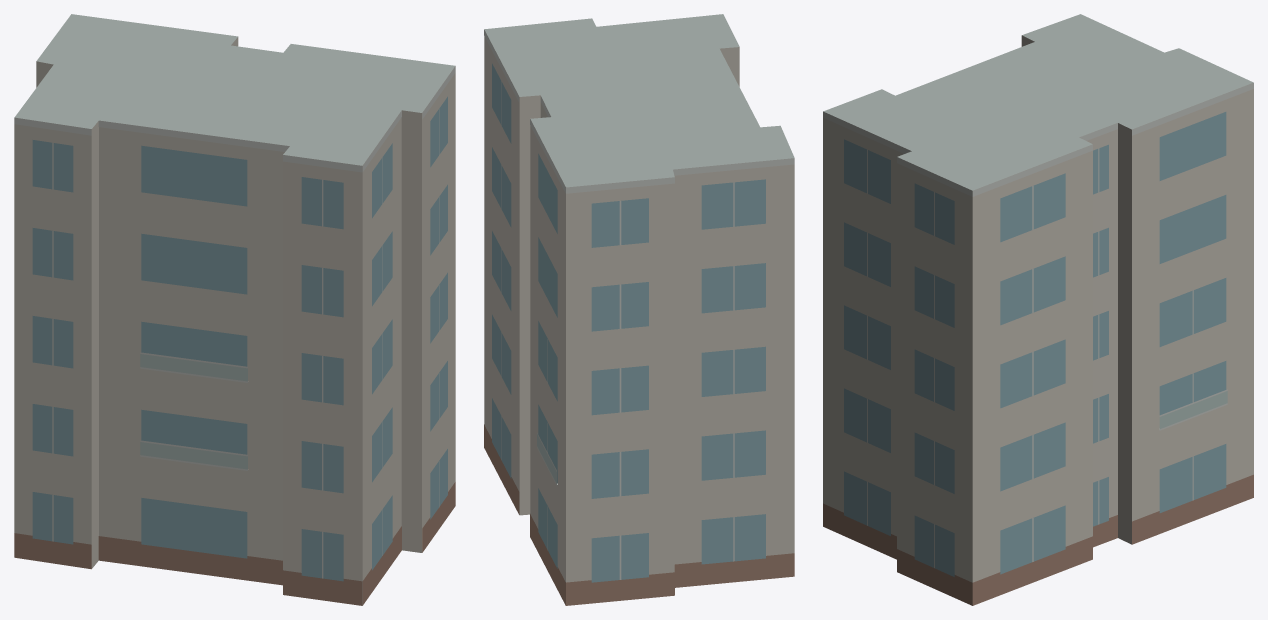
File: survey-upis-32583897.glb
The picture shows the model from 3 angles, left to right: view 1: azimuth 30°, elevation 25°; view 2: azimuth 150°, elevation 25°; view 3: azimuth 270°, elevation 25°; orthographic projection. The views are drawn at different scales.
Visible parts, largest first — view 1: survey-upis-32583897.tmp; view 2: survey-upis-32583897.tmp; view 3: survey-upis-32583897.tmp.
Boxes of the visible parts, box(x1,y1,x2,y2) form: survey-upis-32583897.tmp: box(14, 14, 455, 605); survey-upis-32583897.tmp: box(484, 14, 794, 605); survey-upis-32583897.tmp: box(823, 14, 1253, 605).
Size of the model in its own units: 14.75 by 16.15 by 15.19.
